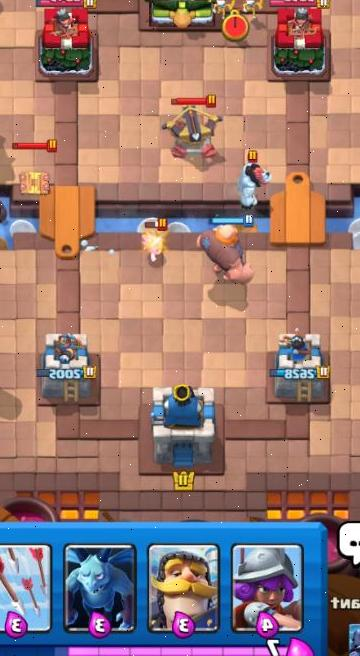enemy_ice_golem: (235, 151, 274, 207)
enemy_ice_spirit: (135, 215, 173, 264)
enemy_skeletons: (210, 0, 235, 22), (240, 0, 264, 22)
enemy_tesla: (8, 137, 59, 199)
enemy_xbow: (157, 92, 227, 163)
player_giant: (194, 218, 257, 284)
